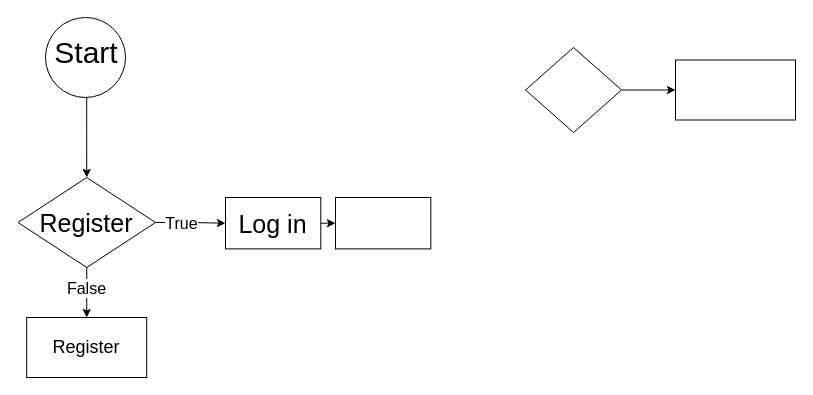
Some shapes in this 813 by 395 pixel diagram are drawn without their labels. The shapes that lost their labels are listed below. From the top down, each one's centre as x and y in pixels, then its label:
(573,89): Estimate ประเมิน
(382,222): Menu
